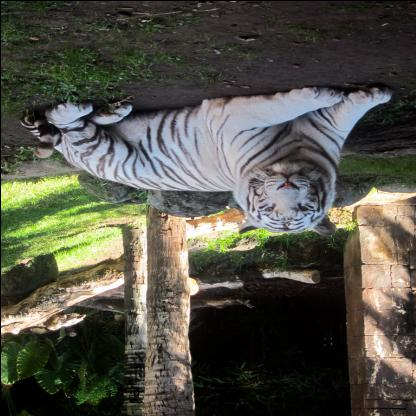tiger: (232, 154, 344, 240)
